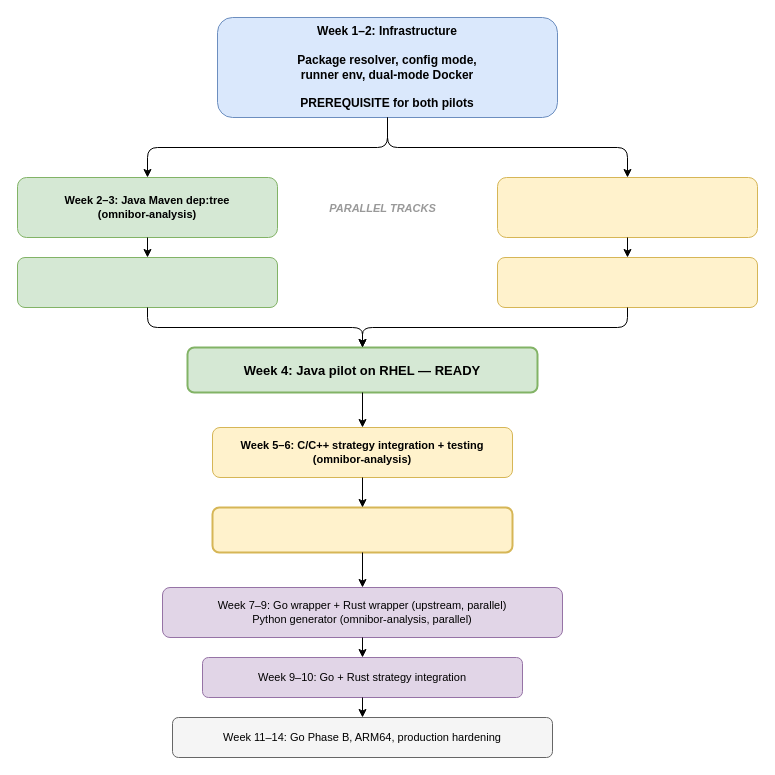
The diagram is 775 pixels wide and 775 high, and some of its shapes have lost their labels. The box of each missing label's shape, as (x1, y1, x2, y2) in pixels:
Week 2–3: C/C++ wrappers begin (upstream bomsh): (496, 176, 758, 238)
Week 3–4: C/C++ wrappers continue (upstream bomsh): (496, 256, 758, 308)
Week 3–4: Java RHEL integration testing: (16, 256, 278, 308)
Week 6–7: C/C++ pilot — READY: (211, 506, 513, 553)
